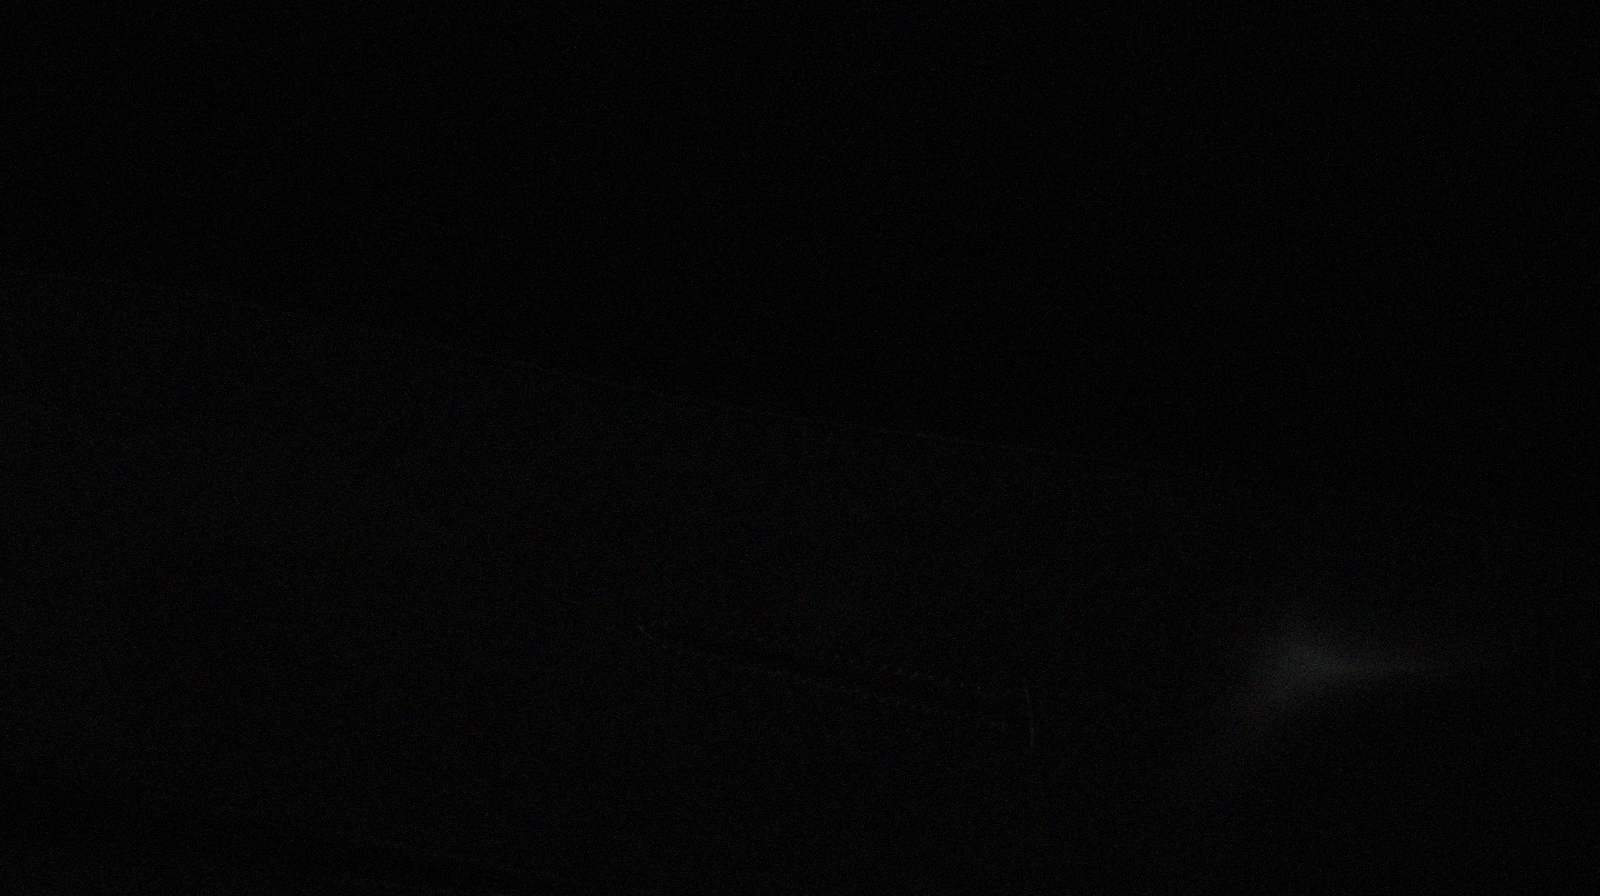S002: (610, 590, 1067, 765)
